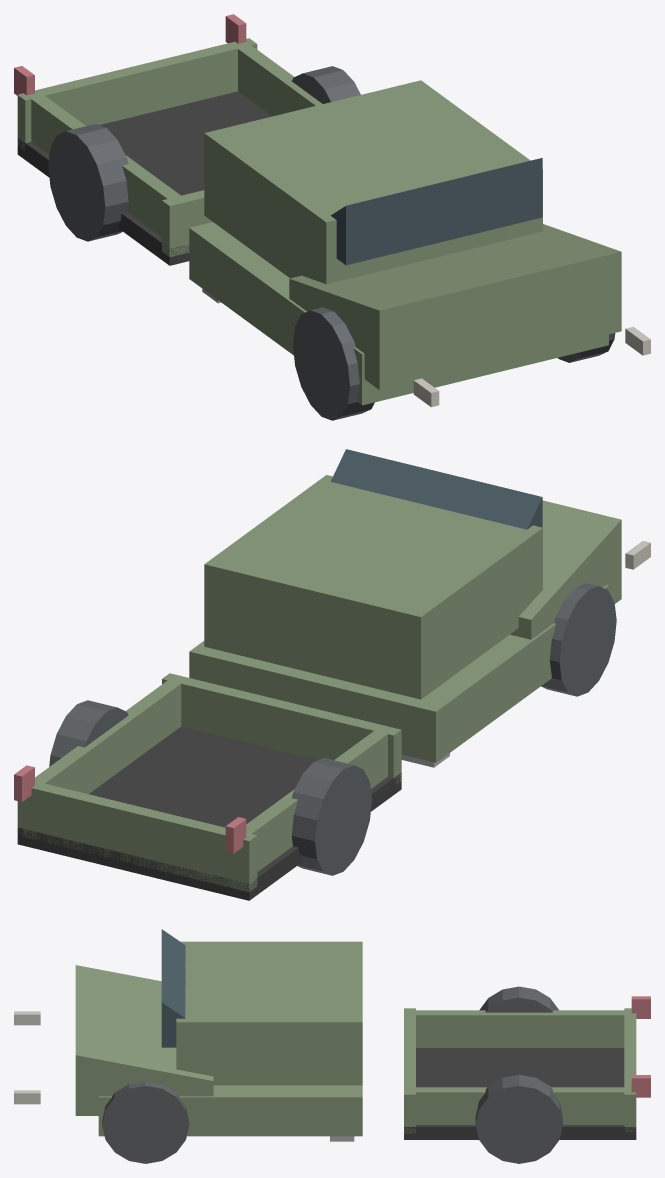
File: tuoye.glb
3 views of the same model, one above another, from view 1: azimuth 30°, elevation 25°; view 2: azimuth 150°, elevation 25°; view 3: azimuth 270°, elevation 25° (orthographic). The views are drawn at different scales.
Parts seen in each view (by area): view 1: cab, hood, windshield, body, bed_floor, tailgate, wheel_RL, wheel_FL, bed_wall_L, bed_wall_R, bed_front_wall, wheel_RR; view 2: cab, bed_floor, body, tailgate, bed_front_wall, hood, windshield, wheel_RL, bed_wall_R, wheel_FL, bed_wall_L, wheel_RR (+1 smaller); view 3: cab, hood, bed_floor, body, bed_wall_L, wheel_RR, wheel_FR, bed_wall_R, windshield, wheel_RL, bed_front_wall, tailgate (+4 smaller).
Part boxes in pixels (x1,y1,x2,y2): cab: (204, 80, 542, 284); hood: (289, 224, 621, 390); windshield: (330, 158, 542, 265); body: (189, 222, 608, 405); bed_floor: (17, 91, 271, 265); tailgate: (17, 38, 257, 150); wheel_RL: (48, 124, 128, 241); wheel_FL: (293, 307, 374, 420); bed_wall_L: (25, 90, 188, 255); bed_wall_R: (230, 41, 322, 116); bed_front_wall: (162, 190, 212, 257); wheel_RR: (292, 66, 360, 103); cab: (204, 475, 542, 699); bed_floor: (17, 726, 401, 900); body: (189, 584, 608, 762); tailgate: (17, 781, 257, 891); bed_front_wall: (162, 673, 401, 783); hood: (510, 500, 621, 639); windshield: (330, 449, 542, 529); wheel_RL: (291, 758, 371, 875); bed_wall_R: (23, 674, 188, 840); wheel_FL: (541, 583, 616, 696); bed_wall_L: (230, 725, 395, 890); wheel_RR: (49, 700, 128, 766); cab: (176, 941, 362, 1085); hood: (75, 965, 213, 1115); bed_floor: (404, 1048, 636, 1139); body: (98, 1085, 362, 1136); bed_wall_L: (404, 1010, 636, 1047); wheel_RR: (475, 1074, 562, 1163); wheel_FR: (102, 1081, 189, 1163); bed_wall_R: (404, 1087, 631, 1124); windshield: (161, 929, 185, 1047); wheel_RL: (479, 986, 558, 1012); bed_front_wall: (404, 1008, 415, 1133); tailgate: (624, 1008, 636, 1132).
Bounding box in the file's own units: 1.96 × 1.37 × 5.32.
